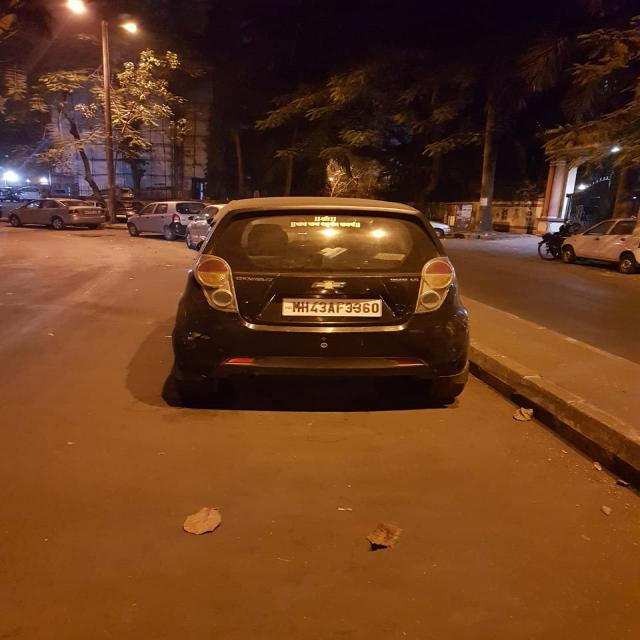Number-Plate: (284, 299, 382, 316)
